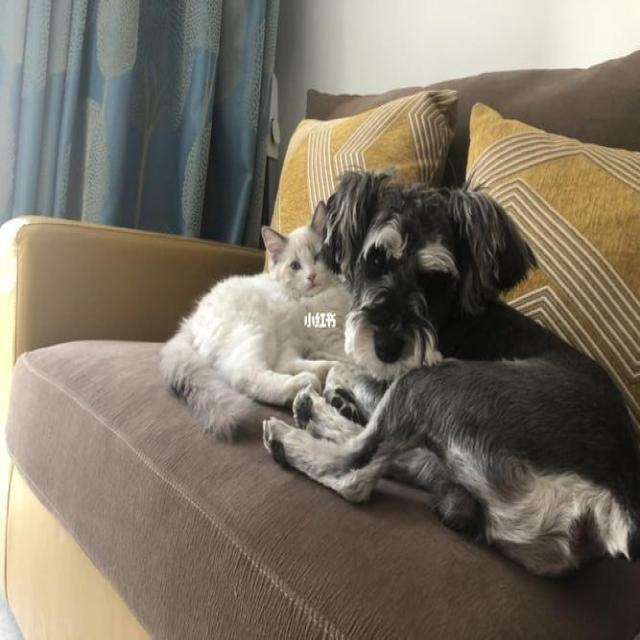cat: (228, 194, 341, 318)
dog: (311, 165, 525, 378)
